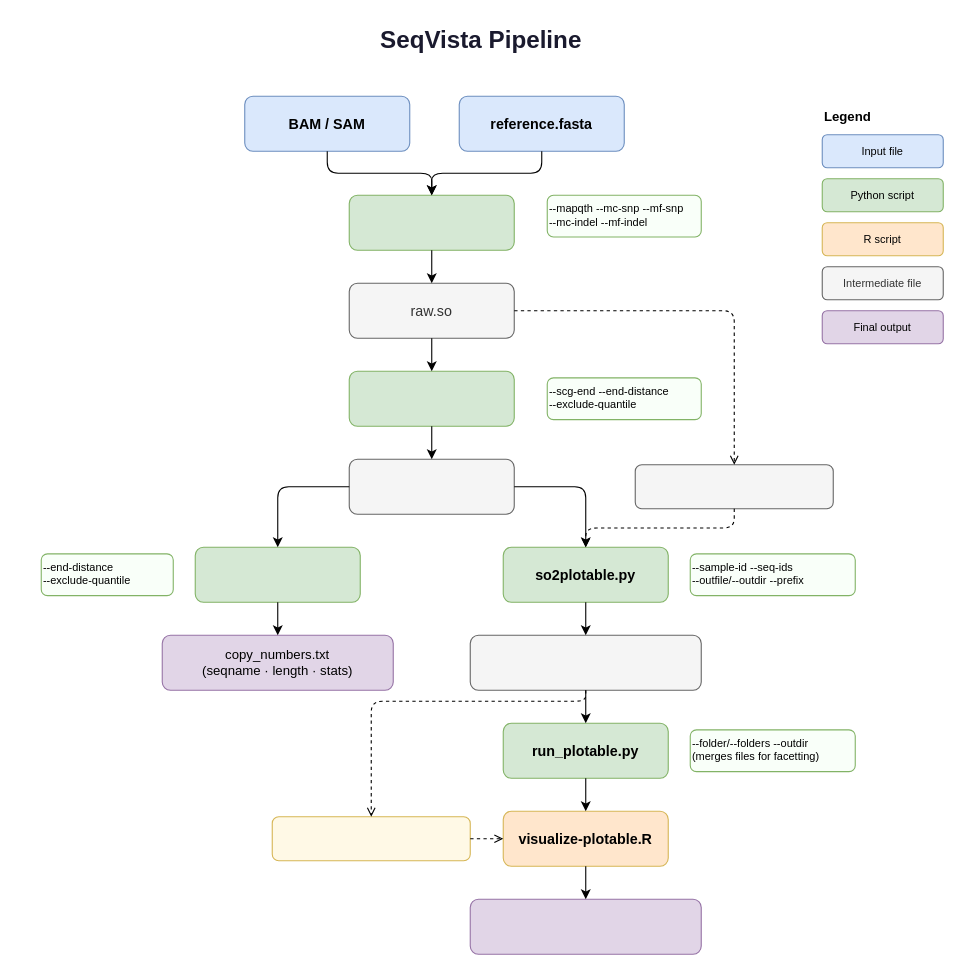
Image size: 972x974. Some labels were removed from this diagram. Each missing label, with the centre of its shape:
".plotable files (one per sequence or combined)" goes at point (585, 662).
"bam2so.py" goes at point (431, 222).
"Can also call Rscript directly on any .plotable file" goes at point (370, 838).
"estimate-so.py" goes at point (277, 574).
"normalize-so.py" goes at point (431, 398).
"normalized.so" goes at point (431, 486).
"Plot output (.png / .pdf / .svg / .eps)" goes at point (585, 926).
"Raw (non-normalized) SO can also be visualized" goes at point (733, 486).
